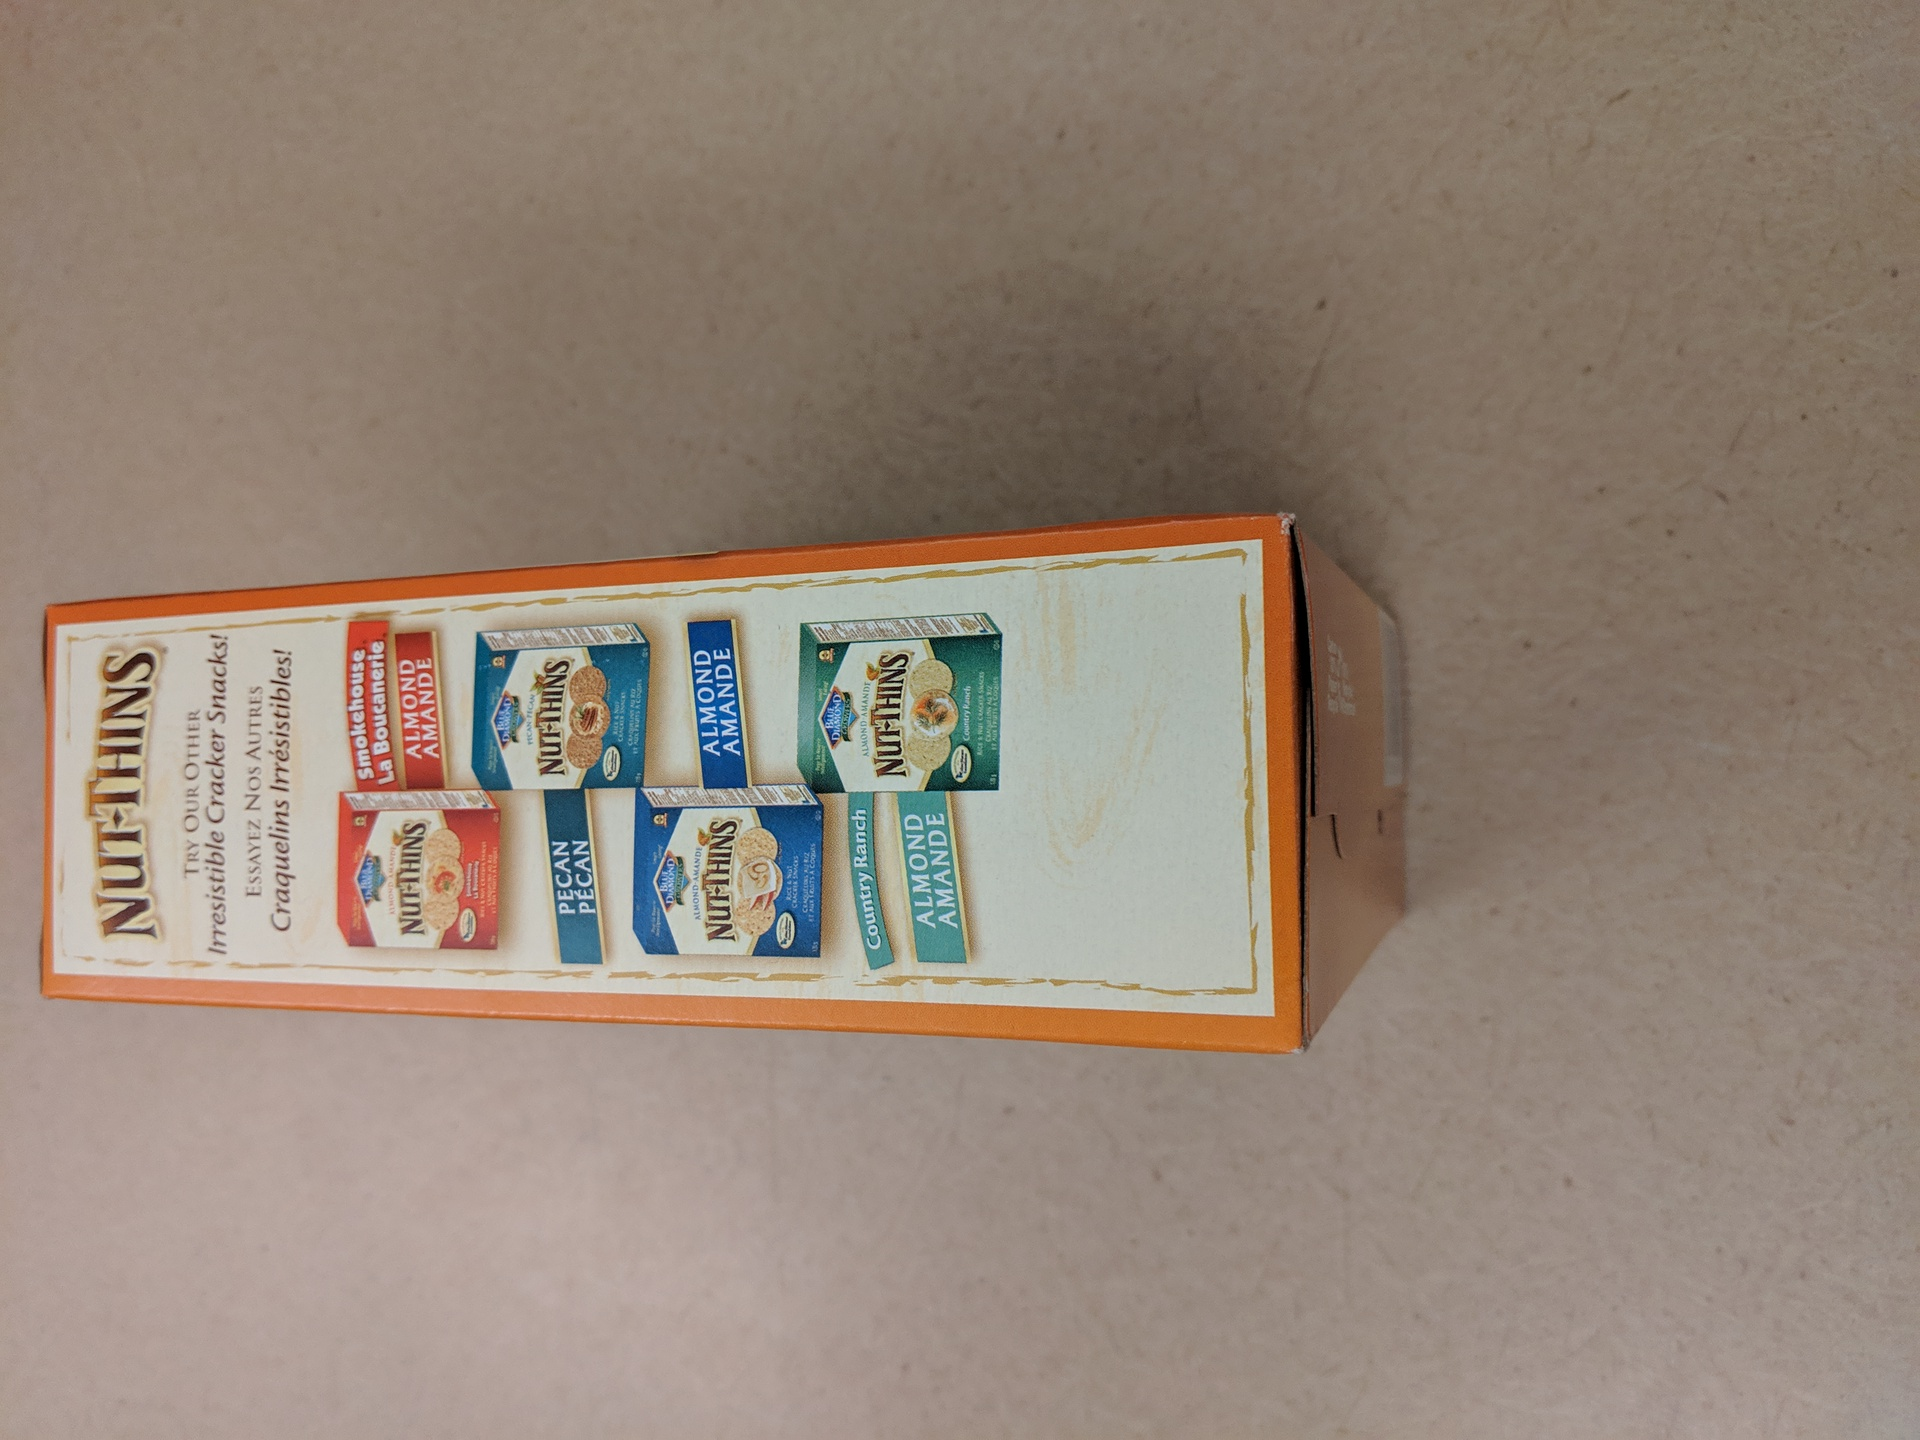blue_diamond_nut_thins_almond_cheddar: (27, 498, 1469, 1078)
